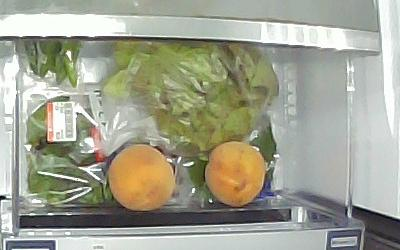peach: (107, 144, 175, 211), (204, 141, 265, 207)
